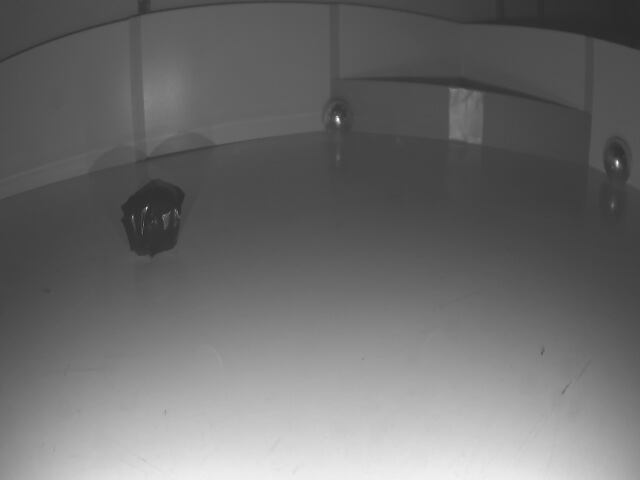Dead: (123, 182, 185, 254)
Live: (603, 135, 633, 185), (321, 101, 360, 137)
Point: (333, 76, 588, 165)
